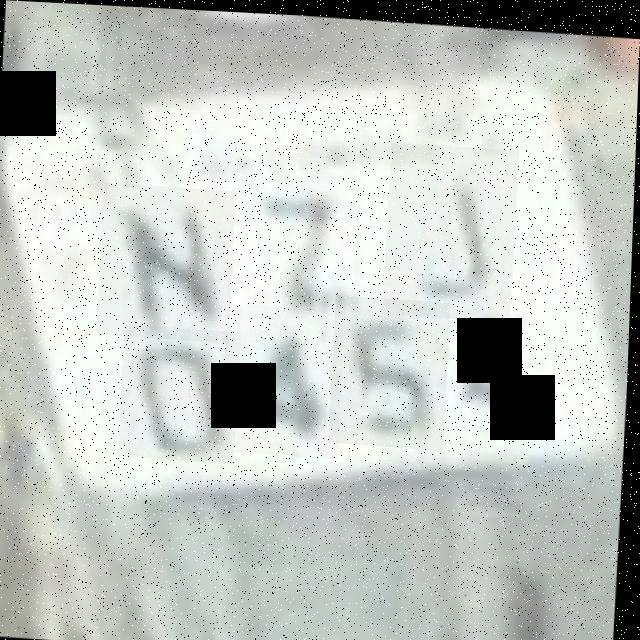0: (121, 322, 243, 461)
4: (430, 276, 561, 451), (229, 300, 348, 455)
5: (331, 290, 453, 445)
J: (384, 137, 520, 317)
N: (98, 181, 237, 340)
Z: (236, 165, 374, 308)
